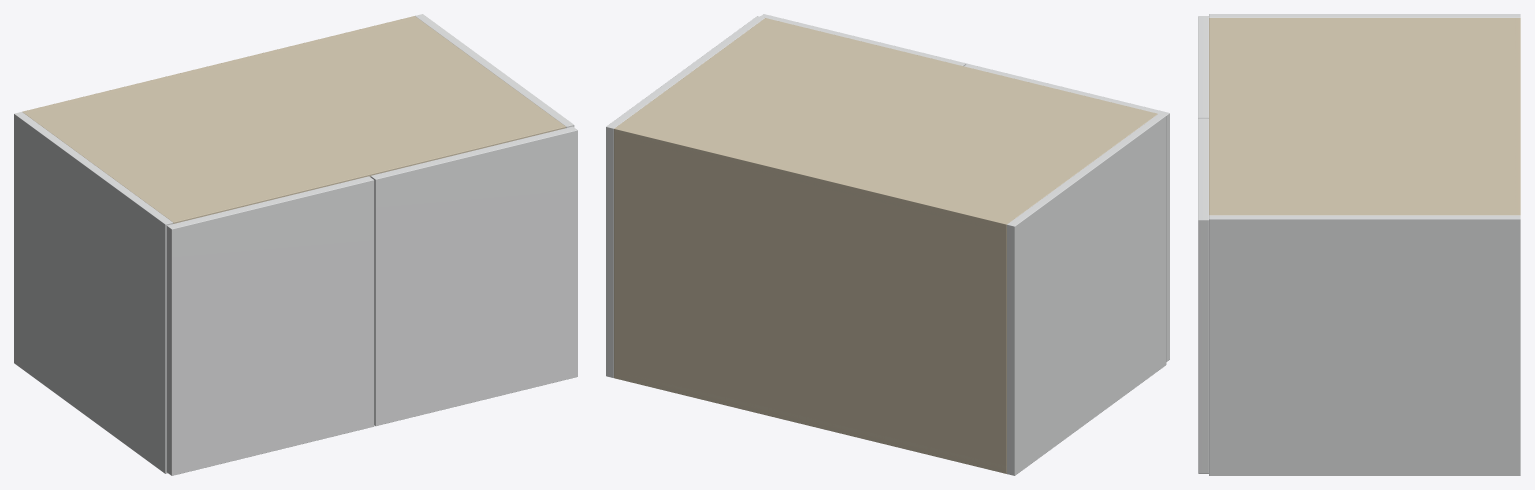
File: oppein-ply-pgw-w362124.glb
The picture shows the model from 3 angles, left to right: view 1: azimuth 30°, elevation 25°; view 2: azimuth 150°, elevation 25°; view 3: azimuth 270°, elevation 25°; orthographic projection. The views are drawn at different scales.
Visible parts, largest first — view 1: Cabinet top, Door, Door.001, Cabinet side, Cabinet back, Cabinet side.001; view 2: Cabinet back, Cabinet top, Cabinet side, Cabinet side.001, Cabinet bottom, Door, Door.001; view 3: Cabinet side.001, Cabinet top, Door.001, Cabinet back, Cabinet side, Door.
Part boxes in pixels (x1=…): Cabinet top: x1=25, y1=17, x2=565, y2=223; Door: x1=166, y1=176, x2=374, y2=475; Door.001: x1=370, y1=126, x2=577, y2=426; Cabinet side: x1=14, y1=112, x2=173, y2=473; Cabinet back: x1=22, y1=16, x2=416, y2=113; Cabinet side.001: x1=415, y1=14, x2=574, y2=127; Cabinet back: x1=614, y1=126, x2=1009, y2=473; Cabinet top: x1=614, y1=18, x2=1157, y2=231; Cabinet side: x1=1007, y1=114, x2=1166, y2=475; Cabinet side.001: x1=606, y1=16, x2=764, y2=377; Cabinet bottom: x1=614, y1=372, x2=1006, y2=473; Door: x1=964, y1=63, x2=1169, y2=361; Door.001: x1=760, y1=14, x2=966, y2=66; Cabinet side.001: x1=1209, y1=215, x2=1520, y2=475; Cabinet top: x1=1209, y1=18, x2=1520, y2=215; Door.001: x1=1198, y1=118, x2=1208, y2=473; Cabinet back: x1=1514, y1=18, x2=1520, y2=215; Cabinet side: x1=1209, y1=14, x2=1520, y2=17; Door: x1=1198, y1=16, x2=1208, y2=118.
Bounding box in the file's own units: 0.9144 × 0.5334 × 0.6064.
